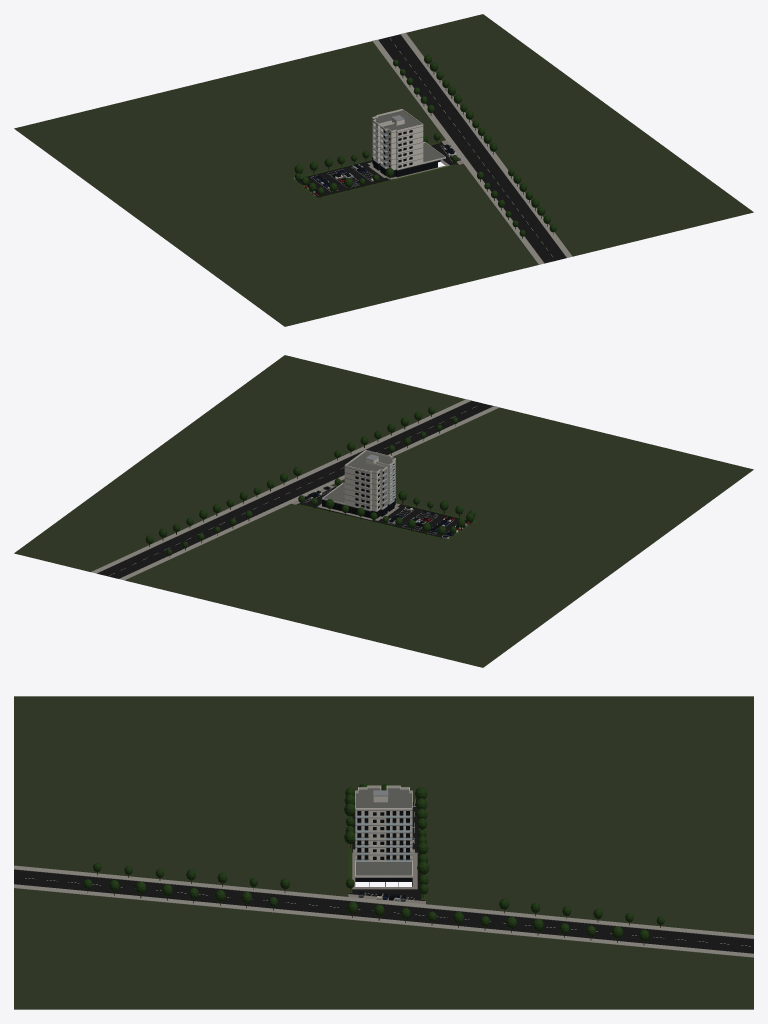
File: proje_kutle.dae
The picture shows the model from 3 angles, top to bottom: view 1: azimuth 30°, elevation 25°; view 2: azimuth 150°, elevation 25°; view 3: azimuth 270°, elevation 25°; orthographic projection. The views are drawn at different scales.
Parts seen in each view (by area): view 1: Cevre_Zemin, Odunluk_Caddesi, Kaldirimlar, Agac_Taclari, Normal_Katlar_Duvar, Otopark_Asfalt, Normal_Kat_Doseme_Bantlari, Yesil_Serit; view 2: Cevre_Zemin, Odunluk_Caddesi, Kaldirimlar, Agac_Taclari, Normal_Katlar_Duvar, Otopark_Asfalt, Yesil_Serit, Normal_Kat_Doseme_Bantlari; view 3: Cevre_Zemin, Odunluk_Caddesi, Kaldirimlar, Agac_Taclari, Normal_Katlar_Duvar, Normal_Kat_Camlar, Otopark_Asfalt, Cati_Kaplamasi, Normal_Kat_Doseme_Bantlari, Balkon_Korkuluk_Cam, Gezilemeyen_Teras, Parke_Kaplama.
Part boxes in pixels (x1=…): Cevre_Zemin: x1=14, y1=14, x2=753, y2=326; Odunluk_Caddesi: x1=378, y1=34, x2=566, y2=263; Kaldirimlar: x1=372, y1=32, x2=572, y2=264; Agac_Taclari: x1=294, y1=55, x2=556, y2=236; Normal_Katlar_Duvar: x1=372, y1=119, x2=423, y2=169; Otopark_Asfalt: x1=297, y1=141, x2=458, y2=197; Normal_Kat_Doseme_Bantlari: x1=372, y1=119, x2=423, y2=165; Yesil_Serit: x1=292, y1=142, x2=456, y2=199; Cevre_Zemin: x1=14, y1=355, x2=753, y2=667; Odunluk_Caddesi: x1=97, y1=401, x2=493, y2=578; Kaldirimlar: x1=91, y1=399, x2=499, y2=580; Agac_Taclari: x1=145, y1=406, x2=475, y2=555; Normal_Katlar_Duvar: x1=344, y1=460, x2=395, y2=511; Otopark_Asfalt: x1=296, y1=486, x2=472, y2=537; Yesil_Serit: x1=298, y1=487, x2=477, y2=540; Normal_Kat_Doseme_Bantlari: x1=344, y1=460, x2=395, y2=506; Cevre_Zemin: x1=14, y1=696, x2=753, y2=1009; Odunluk_Caddesi: x1=14, y1=869, x2=753, y2=953; Kaldirimlar: x1=14, y1=865, x2=753, y2=957; Agac_Taclari: x1=83, y1=783, x2=664, y2=941; Normal_Katlar_Duvar: x1=355, y1=811, x2=412, y2=861; Normal_Kat_Camlar: x1=357, y1=811, x2=409, y2=859; Otopark_Asfalt: x1=348, y1=802, x2=425, y2=901; Cati_Kaplamasi: x1=356, y1=788, x2=411, y2=807; Normal_Kat_Doseme_Bantlari: x1=355, y1=810, x2=412, y2=855; Balkon_Korkuluk_Cam: x1=356, y1=815, x2=411, y2=861; Gezilemeyen_Teras: x1=356, y1=862, x2=411, y2=875; Parke_Kaplama: x1=348, y1=849, x2=425, y2=904.
Bounding box in the file's own units: 300 × 300 × 30.72.
